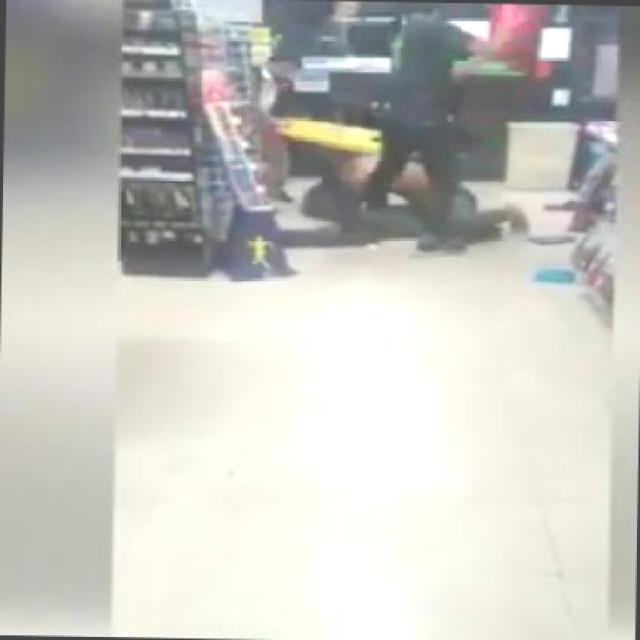fight: (264, 126, 556, 260)
